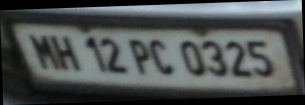character: (27, 33, 60, 71), (49, 33, 80, 70), (246, 39, 274, 76), (100, 36, 127, 74), (200, 39, 227, 77), (224, 40, 251, 78), (147, 38, 174, 75), (178, 40, 204, 75), (84, 35, 106, 73), (128, 39, 150, 74)
